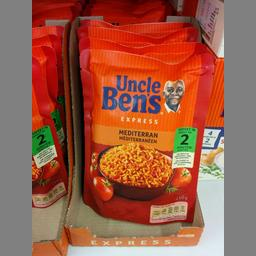rice: (76, 36, 212, 226)
